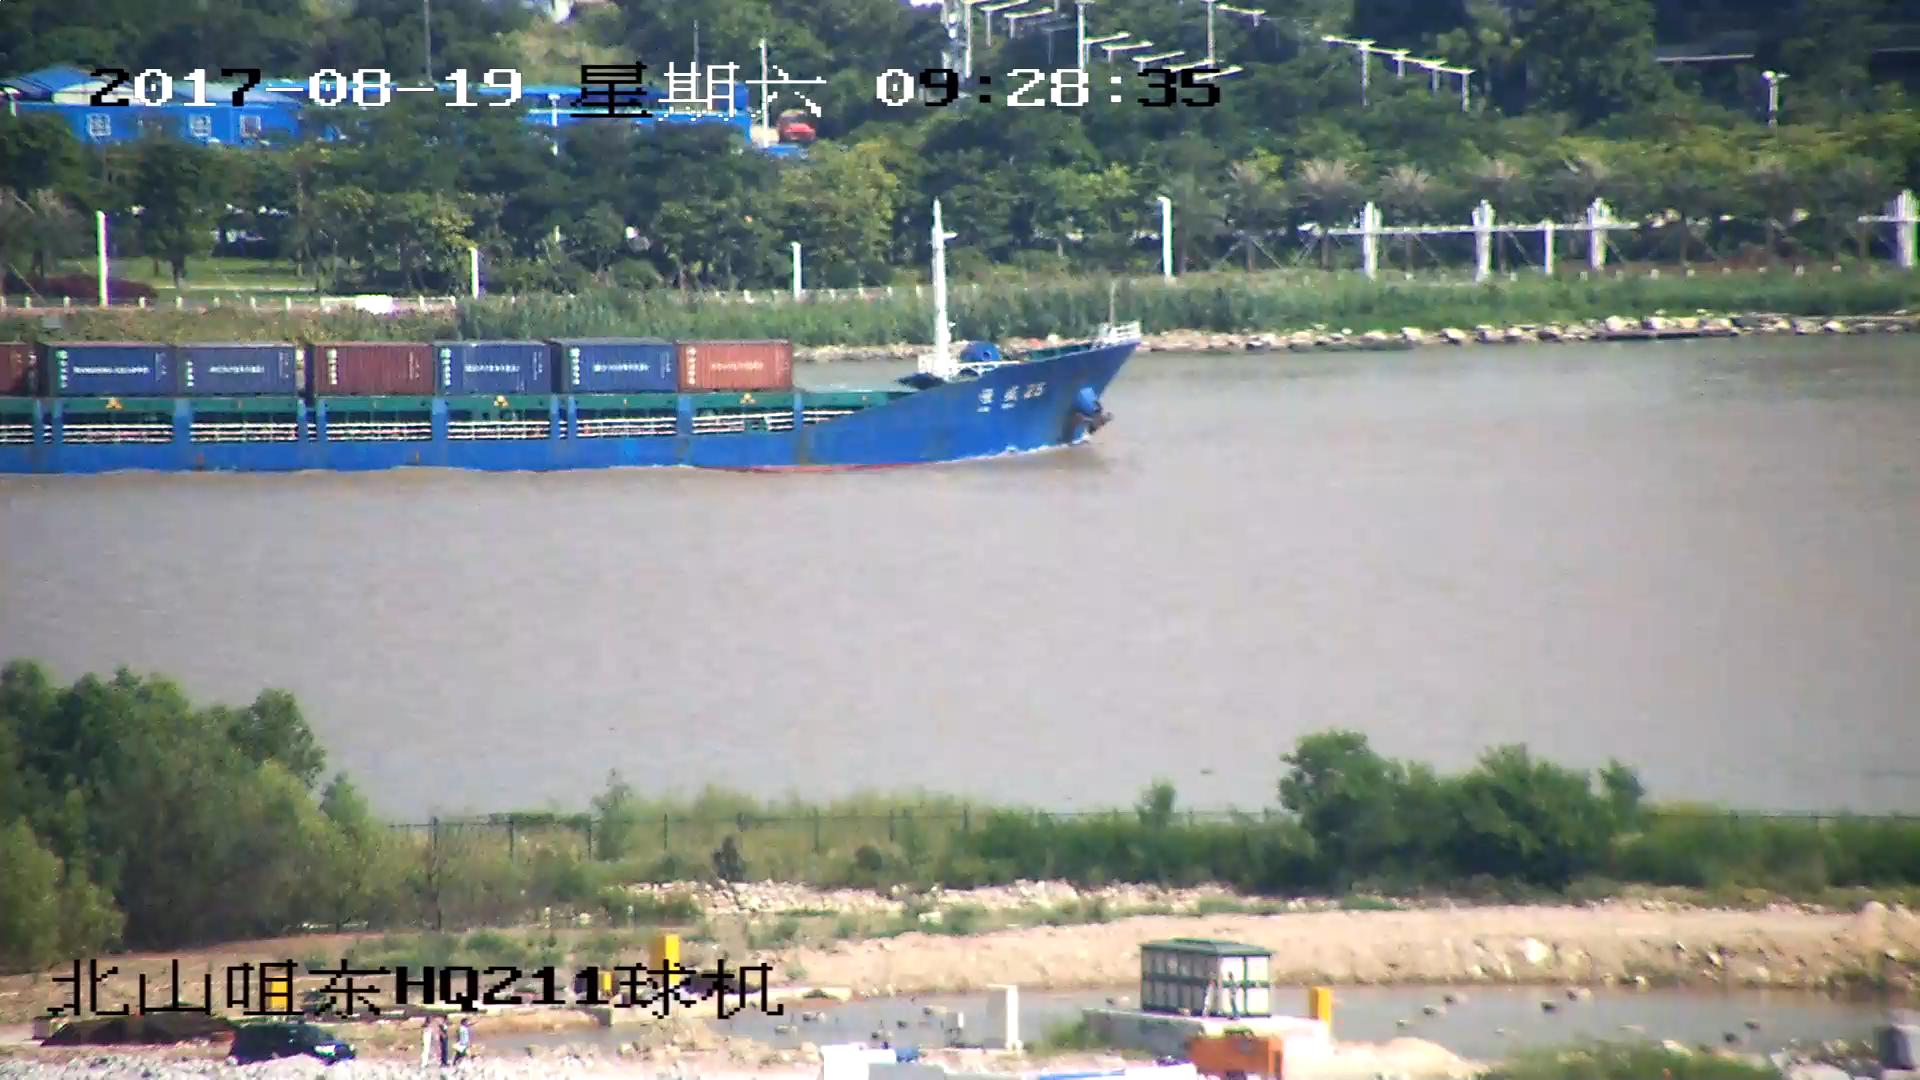general cargo ship: (1, 201, 1144, 466)
